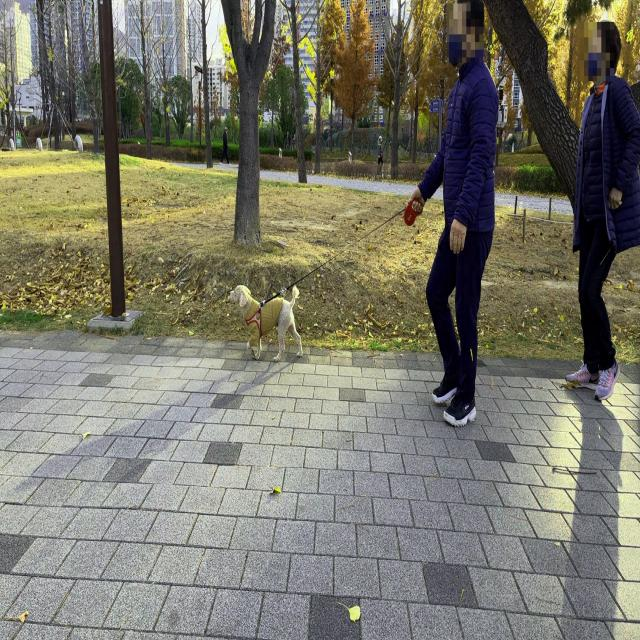Leashed_Dog: (228, 186, 457, 363)
